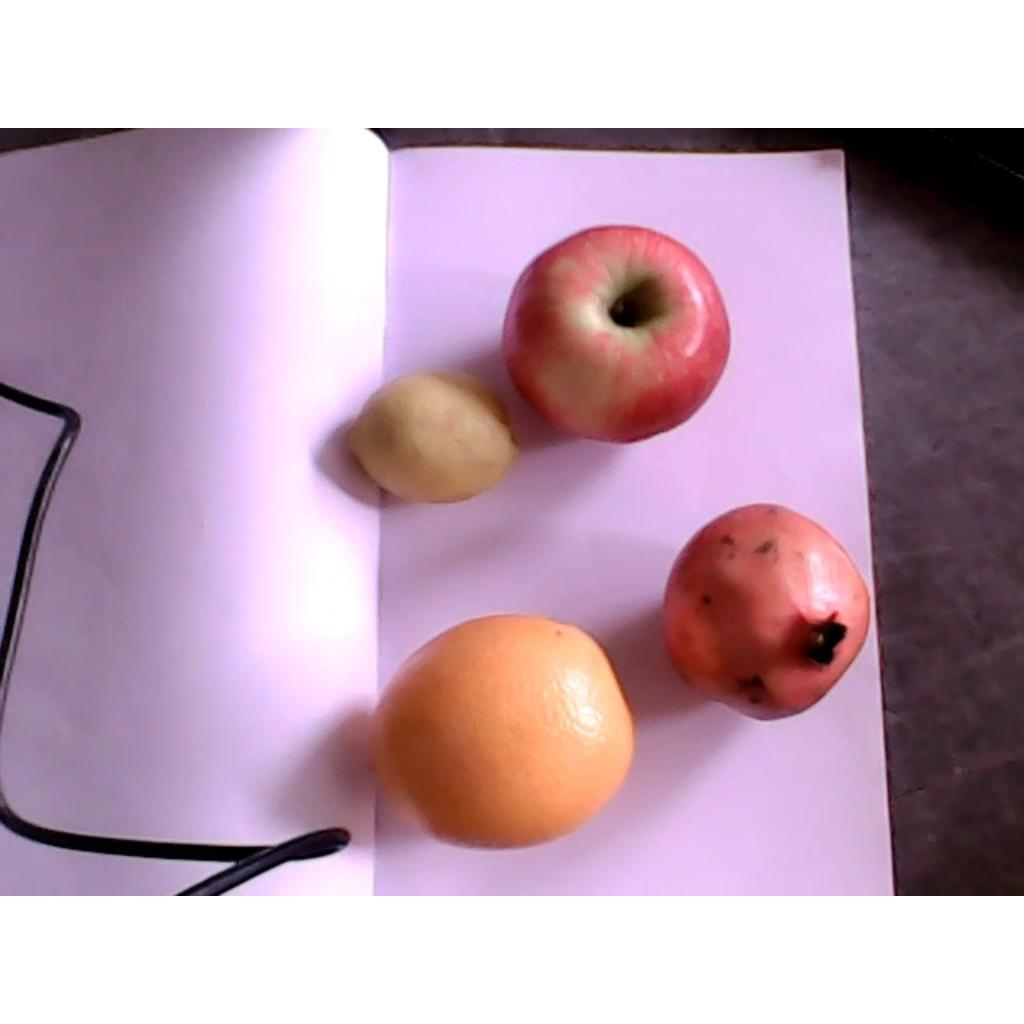apple: (501, 224, 732, 446)
lemon: (345, 366, 515, 505)
orange: (372, 614, 633, 851)
pomegranate: (660, 503, 872, 722)
